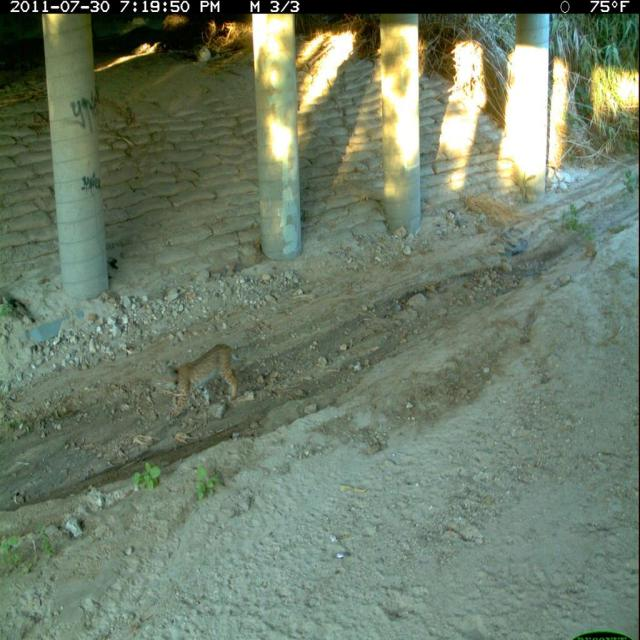bobcat: (161, 339, 241, 426)
